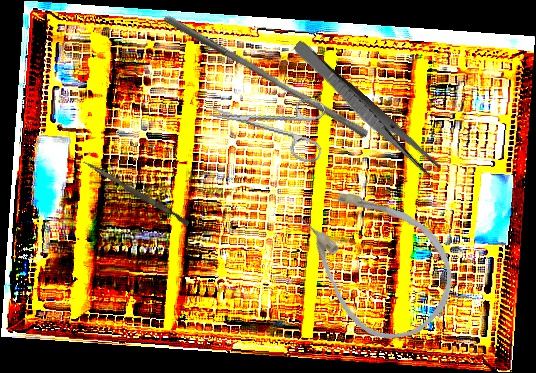Cannula: (276, 158, 476, 360)
Dressing Forceps: (288, 38, 443, 180)
Iris Scissors: (203, 78, 332, 165)
Pusher: (157, 13, 374, 140), (80, 159, 192, 227)
